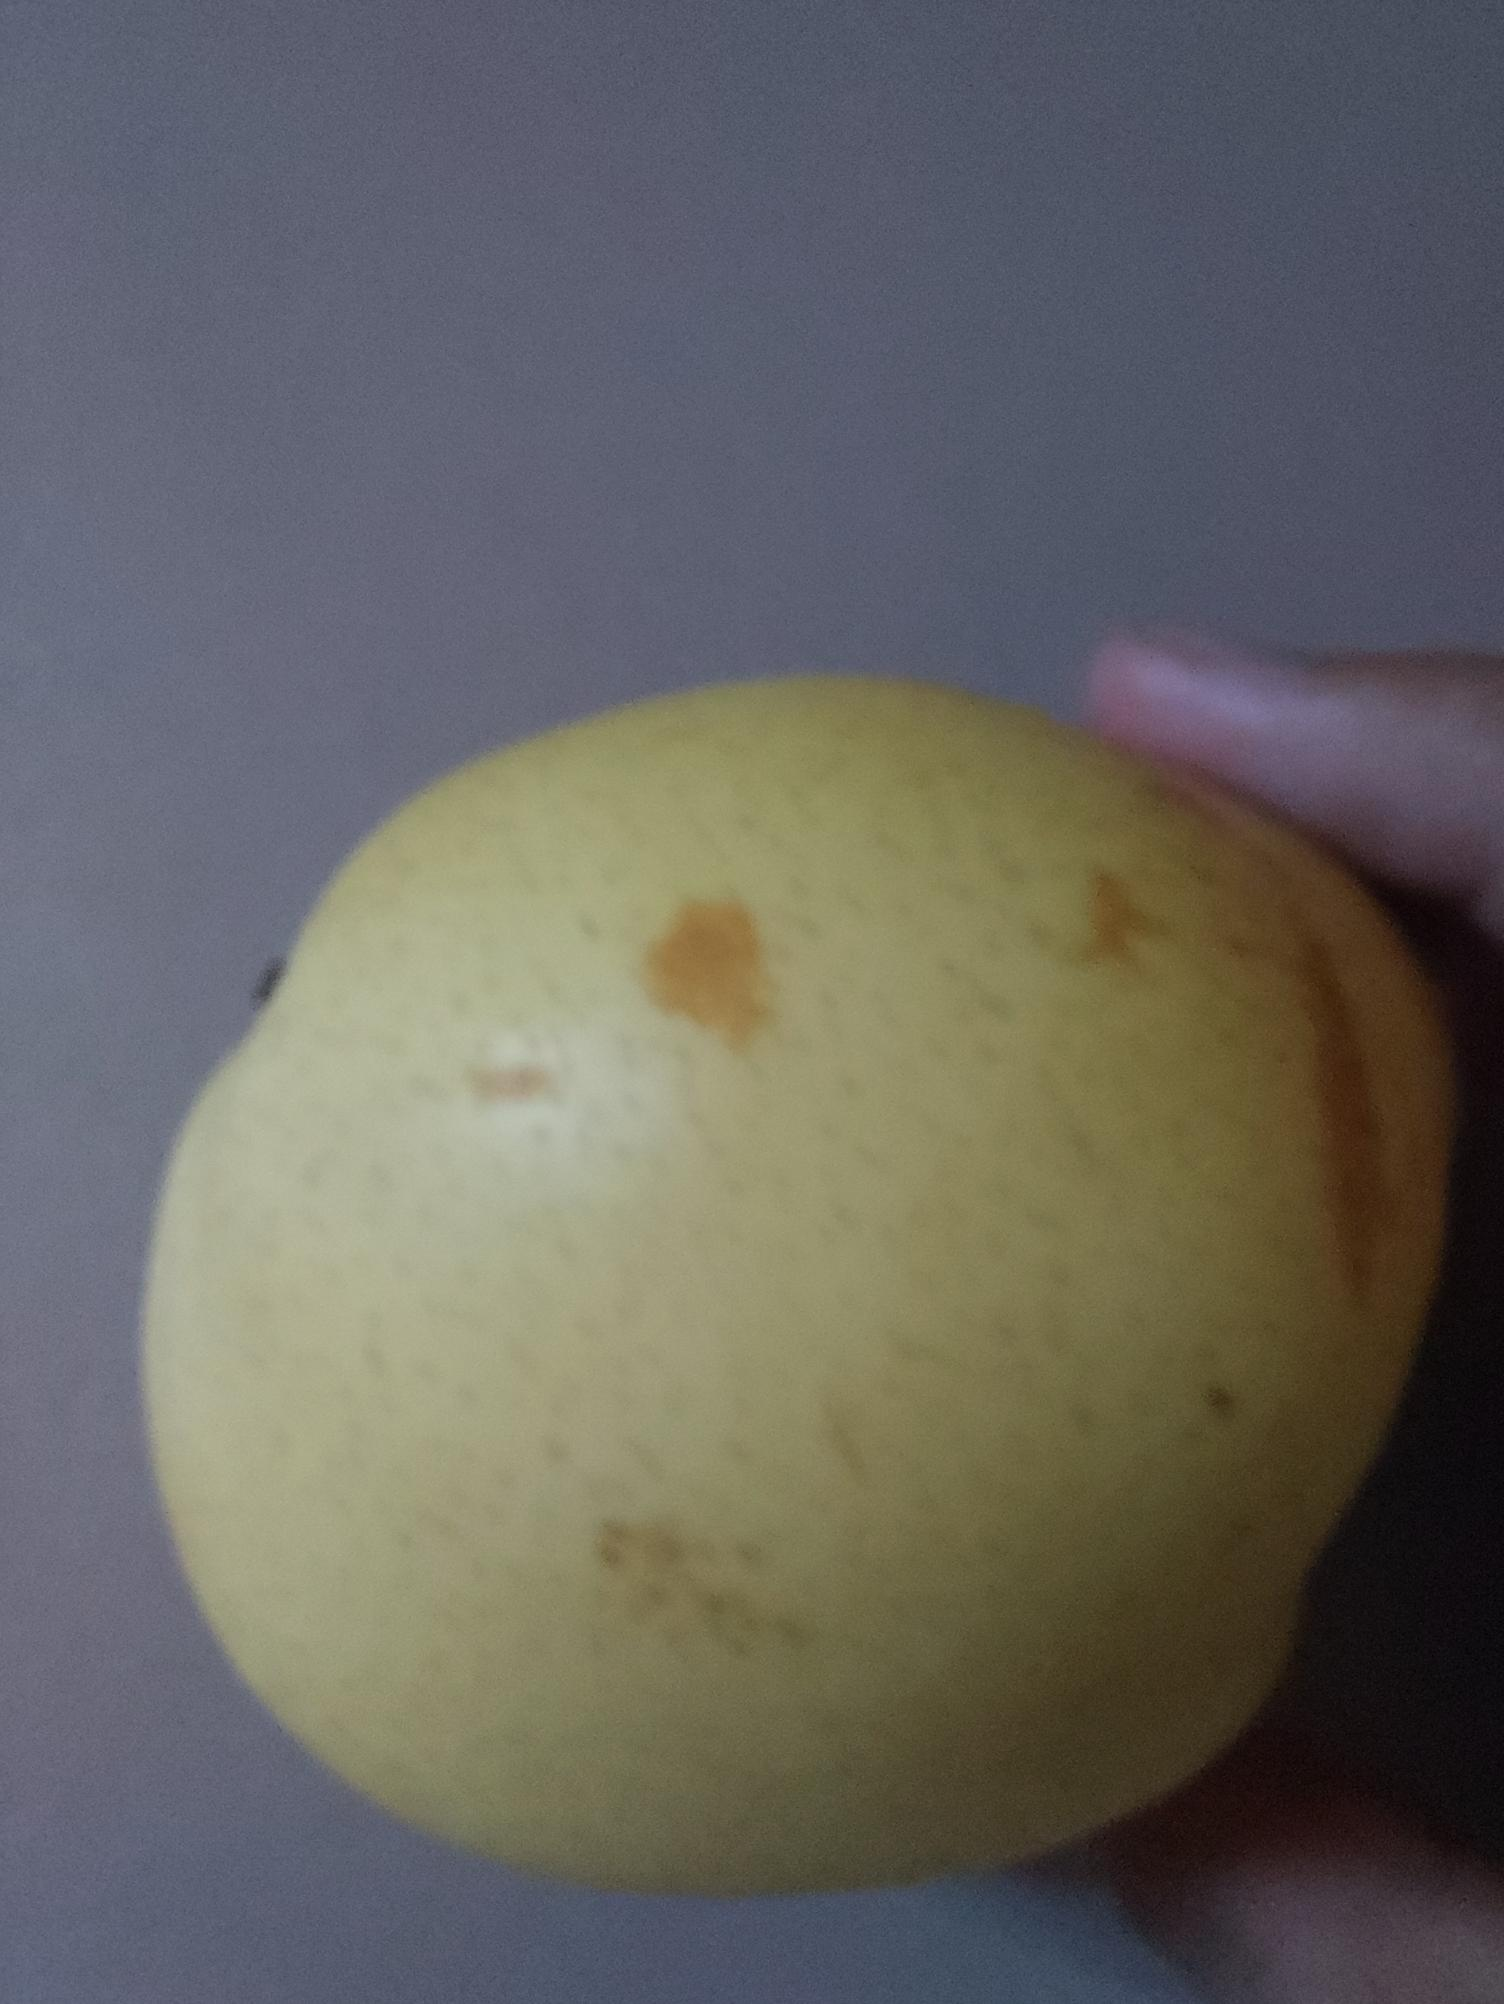Good Pear: (144, 670, 1452, 1897)
